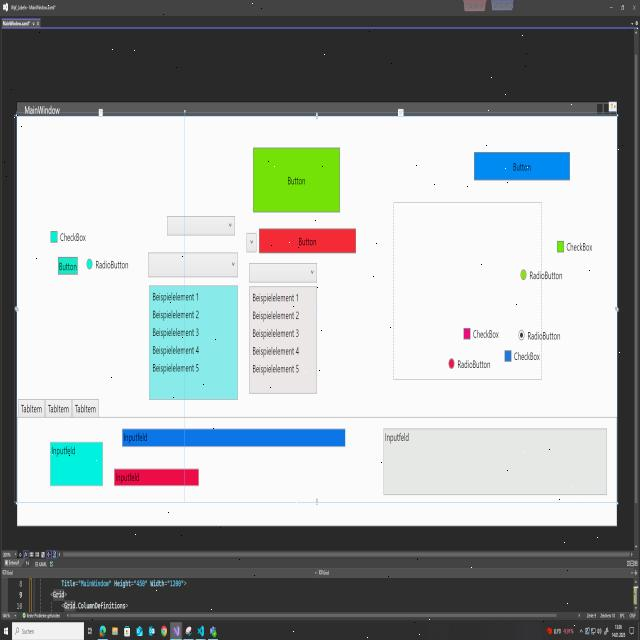button: (252, 146, 341, 214), (473, 147, 572, 186), (257, 224, 358, 257), (56, 252, 79, 278)
checkbox: (504, 349, 512, 364), (463, 326, 471, 341), (556, 240, 565, 253), (50, 230, 58, 243)
dropdownMenu: (148, 251, 238, 401), (248, 262, 318, 395), (166, 214, 236, 237), (246, 232, 257, 253)
input: (381, 424, 609, 498), (120, 424, 348, 451), (48, 437, 106, 489), (113, 465, 201, 489)
label: (95, 258, 129, 270), (457, 358, 491, 370), (529, 270, 562, 281), (527, 331, 562, 341), (60, 232, 87, 244), (473, 329, 500, 341), (566, 242, 593, 253), (514, 351, 540, 362)
menuItem: (252, 290, 300, 306), (252, 362, 300, 376), (152, 289, 200, 303), (152, 326, 200, 340), (252, 309, 300, 322), (152, 308, 201, 320), (252, 346, 300, 358), (252, 327, 300, 339), (152, 362, 200, 374), (152, 344, 200, 356)
radio: (518, 328, 525, 342), (86, 257, 93, 270), (520, 268, 527, 281), (448, 357, 455, 370)
tabControl: (71, 397, 100, 420), (44, 398, 73, 420), (17, 398, 46, 418)
